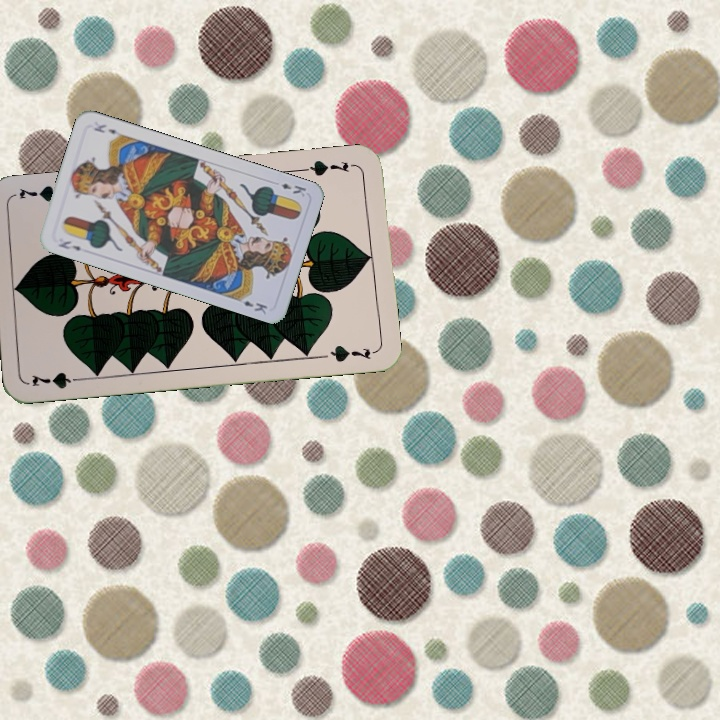EK: (277, 179, 309, 199), (54, 236, 83, 253)
G7: (27, 368, 87, 392), (299, 156, 359, 179)
